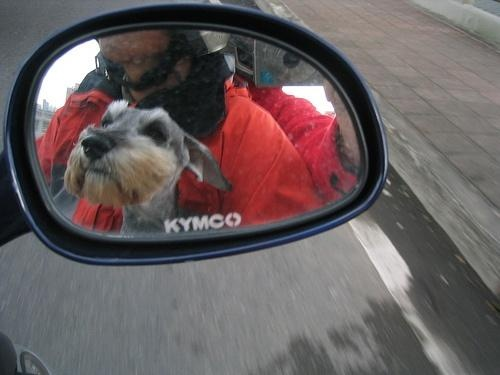dog: (59, 96, 229, 233)
